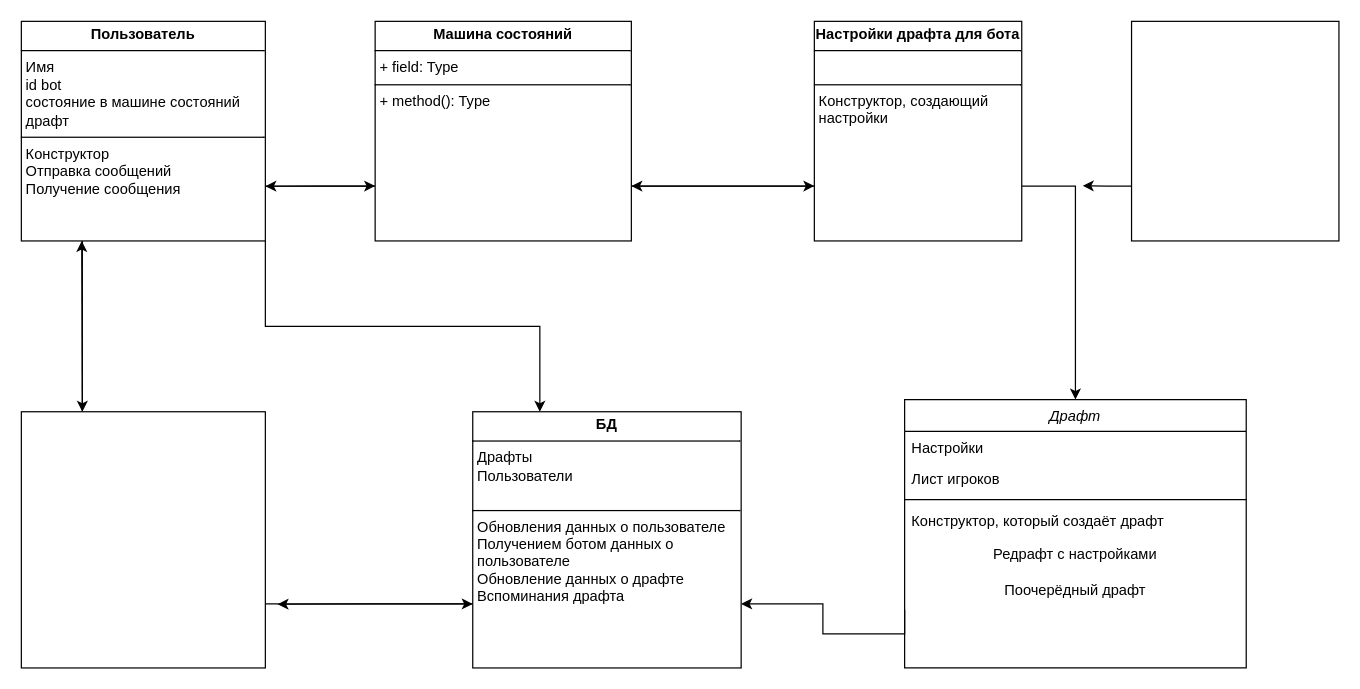
The diagram is 1360 pixels wide and 689 high, and some of its shapes have lost their labels. The shapes that lost their labels are listed below. From the top down, each one's centre as x and y in pixels, then its label:
At pixel 1234 130: "Пакет настроек с сайта".
At pixel 142 539: "Бот Активные пользователи Бд Принятие сообщений Отправка сообщений".
